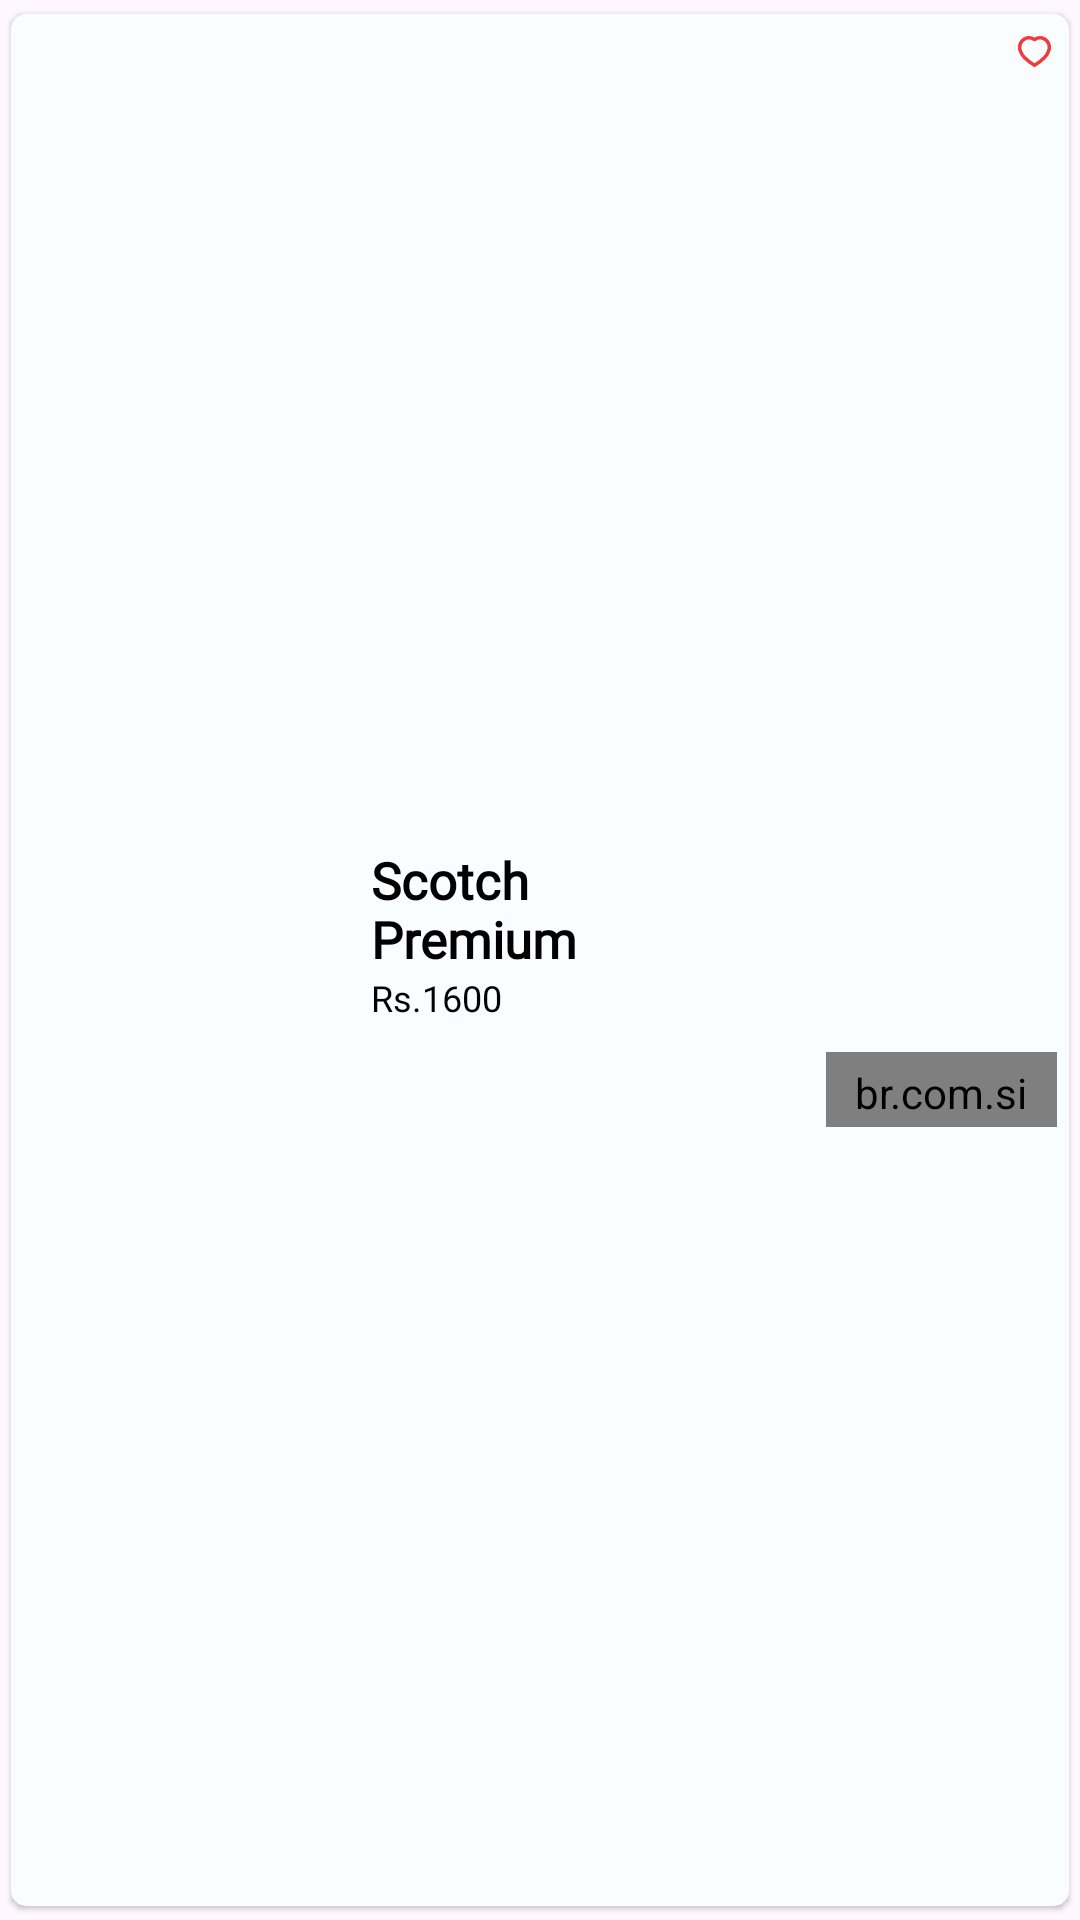

Named icons in this screenshot (1080 × 1920) and their bounding boxes, (x1, y1, x2, y2):
favorite: (1018, 36, 1051, 67)
